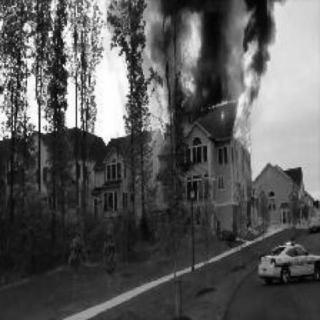Fire: (149, 56, 179, 128)
